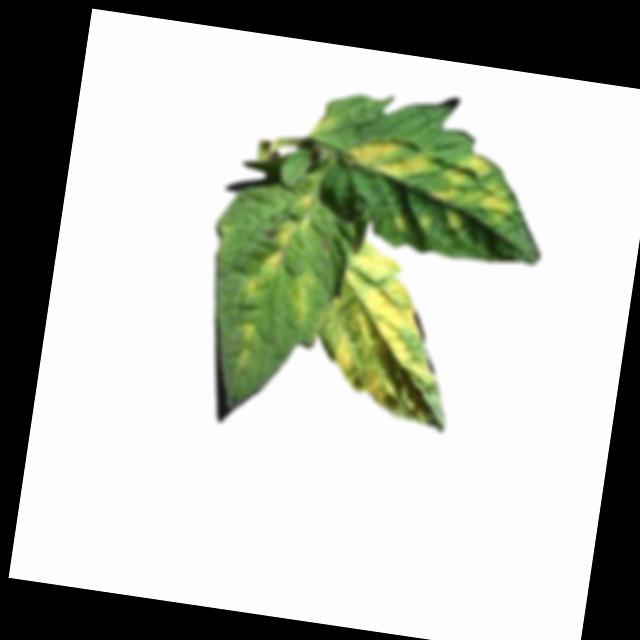Leaf_Mold: (312, 235, 457, 427), (429, 148, 518, 226), (345, 127, 436, 186), (260, 221, 296, 280), (286, 269, 320, 330), (291, 191, 319, 231), (309, 111, 337, 137), (241, 274, 263, 303), (386, 211, 409, 234), (236, 321, 257, 344)
